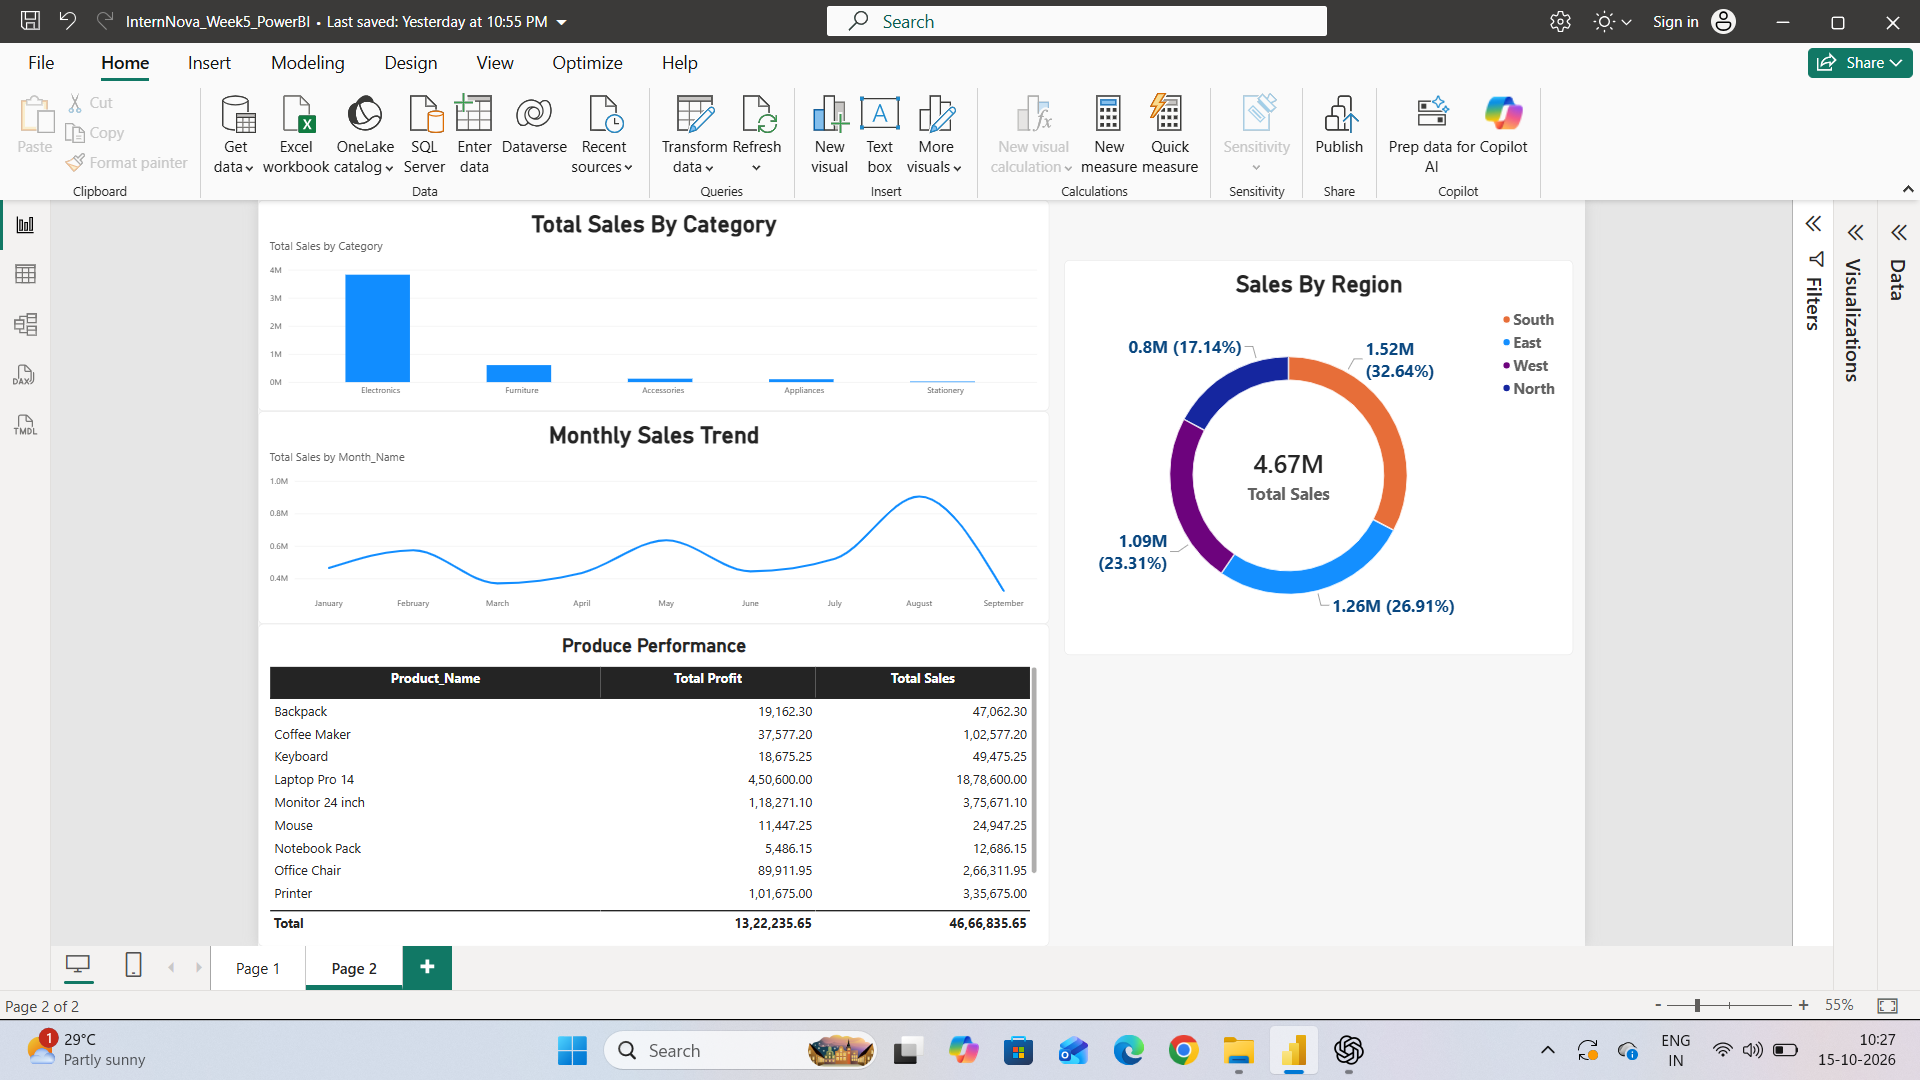

The page's visual inventory and layout, read from the dashboard file:
{"tool":"powerbi","page":{"name":"Page 2","canvas":[1920,1080],"ordinal":1},"visuals":[{"type":"clusteredColumnChart","title":"Total Sales By Category","fields":{"Category":["ProductsTable.Category"],"Y":["SalesTable.Total Sales"]},"box":[0,0,1145.5,305.8],"z":0},{"type":"lineChart","title":"Monthly Sales Trend","fields":{"Category":["DateTable.Month_Name"],"Y":["SalesTable.Total Sales"]},"box":[0,305.8,1145.5,307.6],"z":1000},{"type":"donutChart","title":"Sales By Region","fields":{"Category":["CustomersTable.Region"],"Y":["SalesTable.Total Sales"]},"box":[1167.2,86.9,736.5,571.9],"z":2000},{"type":"tableEx","title":"Produce Performance","fields":{"Values":["ProductsTable.Product_Name","SalesTable.Total Profit","SalesTable.Total Sales"]},"box":[0,613.5,1145.5,466.9],"z":3000}]}

Visuals, with their boxes on the page's 1920x1080 design canvas (x1, y1, x2, y2). These are canvas units, not pixel positions in the 1920x1080 screenshot, which may show the page scaled, cropped or inside an application window:
"Total Sales By Category" clusteredColumnChart: x1=0 y1=0 x2=1146 y2=306
"Monthly Sales Trend" lineChart: x1=0 y1=306 x2=1146 y2=613
"Sales By Region" donutChart: x1=1167 y1=87 x2=1904 y2=659
"Produce Performance" tableEx: x1=0 y1=614 x2=1146 y2=1080
